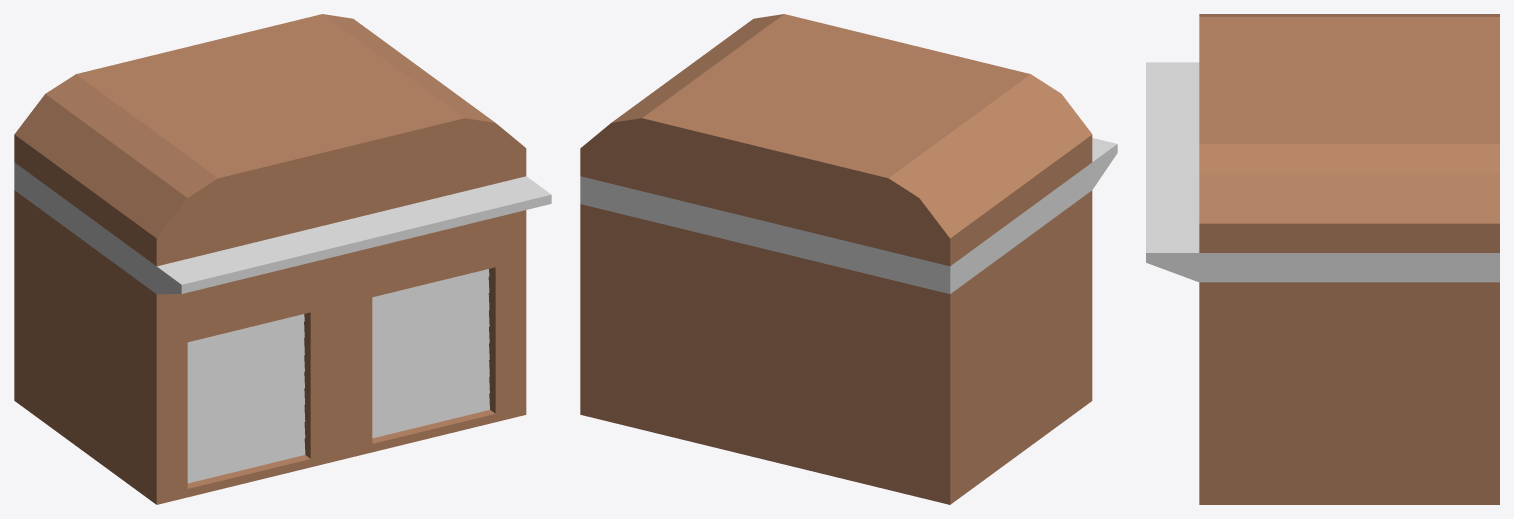
File: Store_Close_orange.fbx
3 views of the same model, side by side, from view 1: azimuth 30°, elevation 25°; view 2: azimuth 150°, elevation 25°; view 3: azimuth 270°, elevation 25° (orthographic). The views are drawn at different scales.
Parts seen in each view (by area): view 1: StoreCloseDoor.004; view 2: StoreCloseDoor.004; view 3: StoreCloseDoor.004.
Boxes of the visible parts, x1,y1,x2,y2 form: StoreCloseDoor.004: (14, 14, 551, 504); StoreCloseDoor.004: (580, 14, 1117, 504); StoreCloseDoor.004: (1146, 14, 1499, 504).
Bounding box in the file's own units: 300 × 242 × 235.
